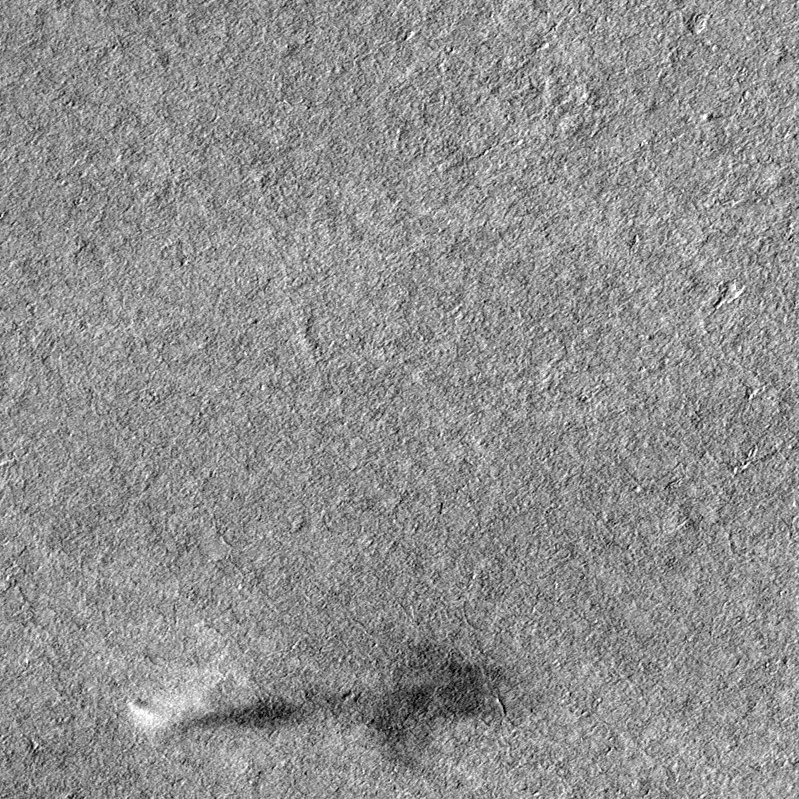dust_devil: (122, 643, 536, 779)
